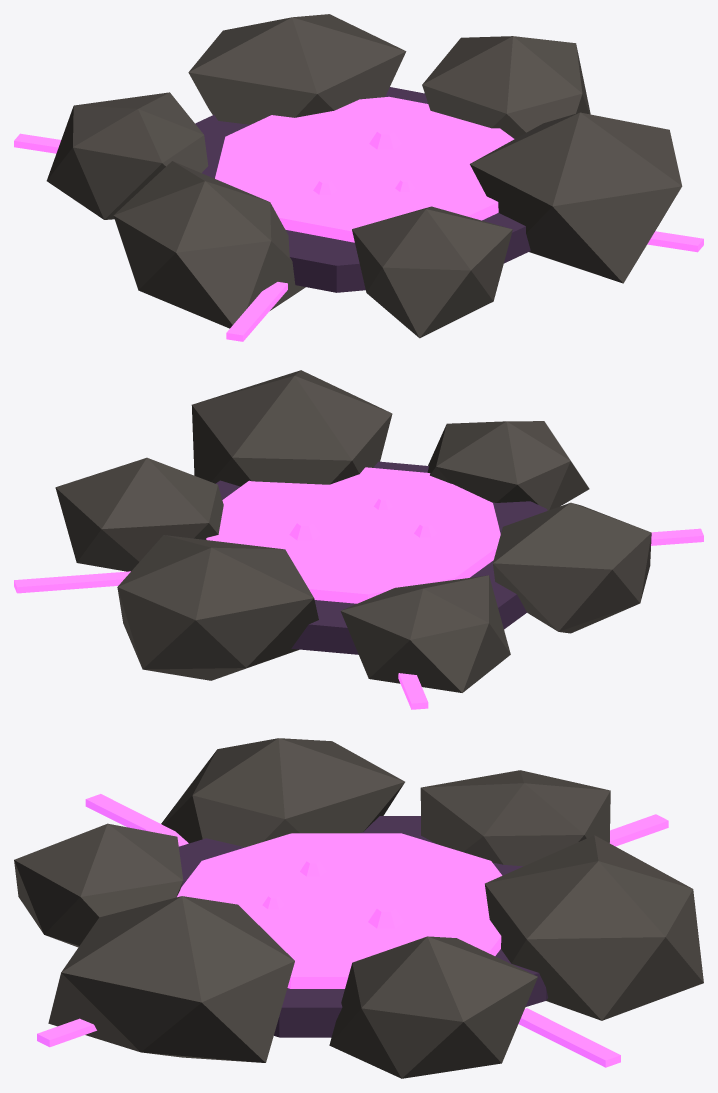
File: ichor_seep.glb
3 renders of one model, top to bottom at view 1: azimuth 30°, elevation 25°; view 2: azimuth 150°, elevation 25°; view 3: azimuth 270°, elevation 25°, orthographic. The views are drawn at different scales.
Parts seen in each view (by area): view 1: NODE_IchorSeep_Mesh; view 2: NODE_IchorSeep_Mesh; view 3: NODE_IchorSeep_Mesh.
Boxes of the visible parts, <box> form: NODE_IchorSeep_Mesh: <box>14,14,703,341</box>; NODE_IchorSeep_Mesh: <box>14,370,703,709</box>; NODE_IchorSeep_Mesh: <box>14,738,703,1078</box>.
Bounding box in the file's own units: 1.01 × 0.2894 × 1.04.
